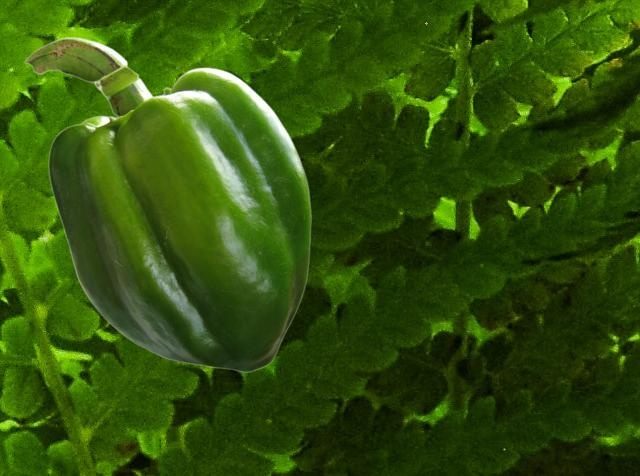bell_pepper: (24, 36, 310, 371)
